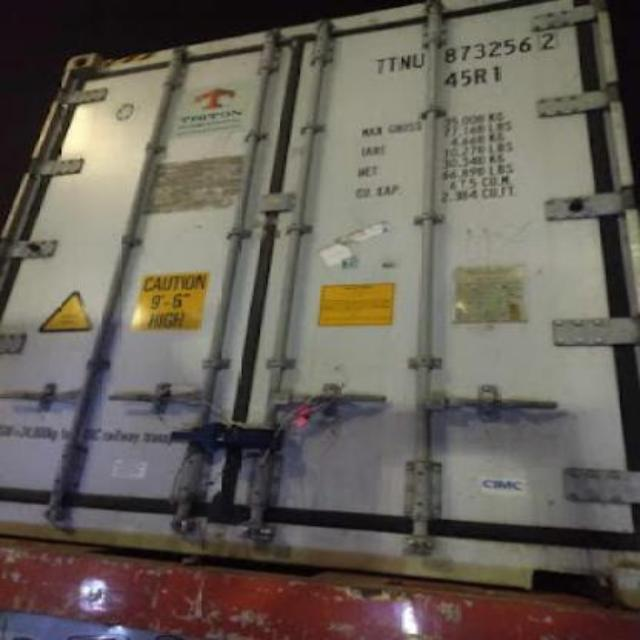2: (538, 32, 554, 52), (488, 36, 500, 58)
3: (472, 40, 488, 61)
5: (500, 34, 516, 62)
6: (518, 33, 532, 57)
7: (458, 42, 470, 66)
8: (442, 43, 458, 67)
N: (398, 48, 412, 76)
T: (372, 52, 386, 78), (384, 53, 398, 77)
U: (411, 50, 424, 72)
